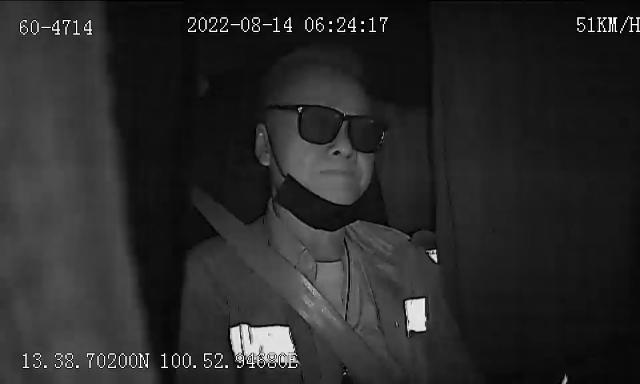Seatbelt: (195, 200, 392, 382)
